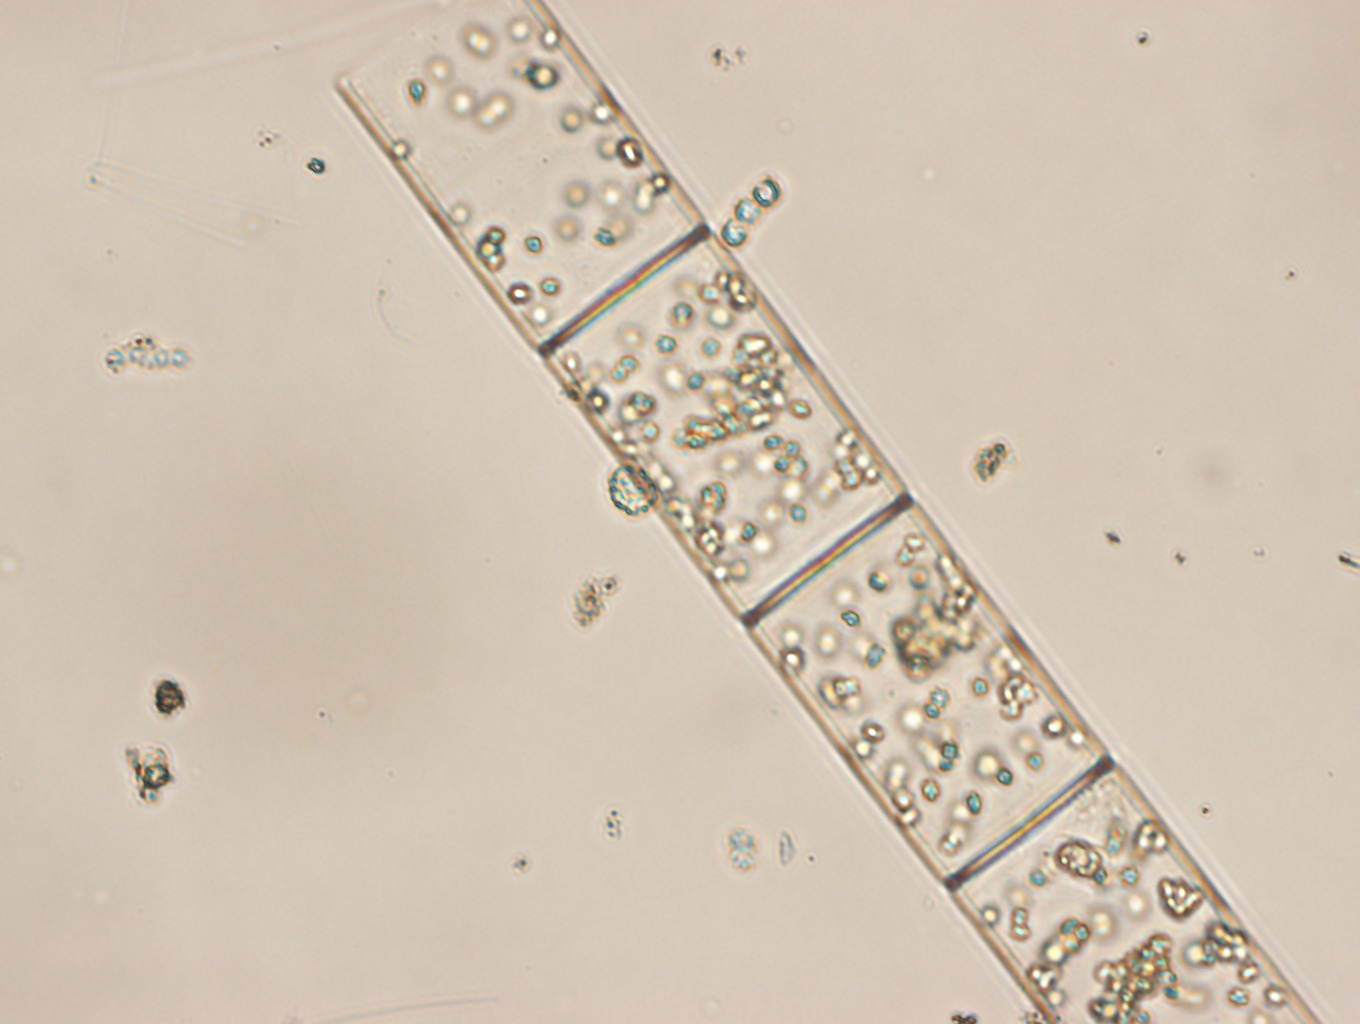guinardia flaccida: (329, 1, 1325, 1024)
